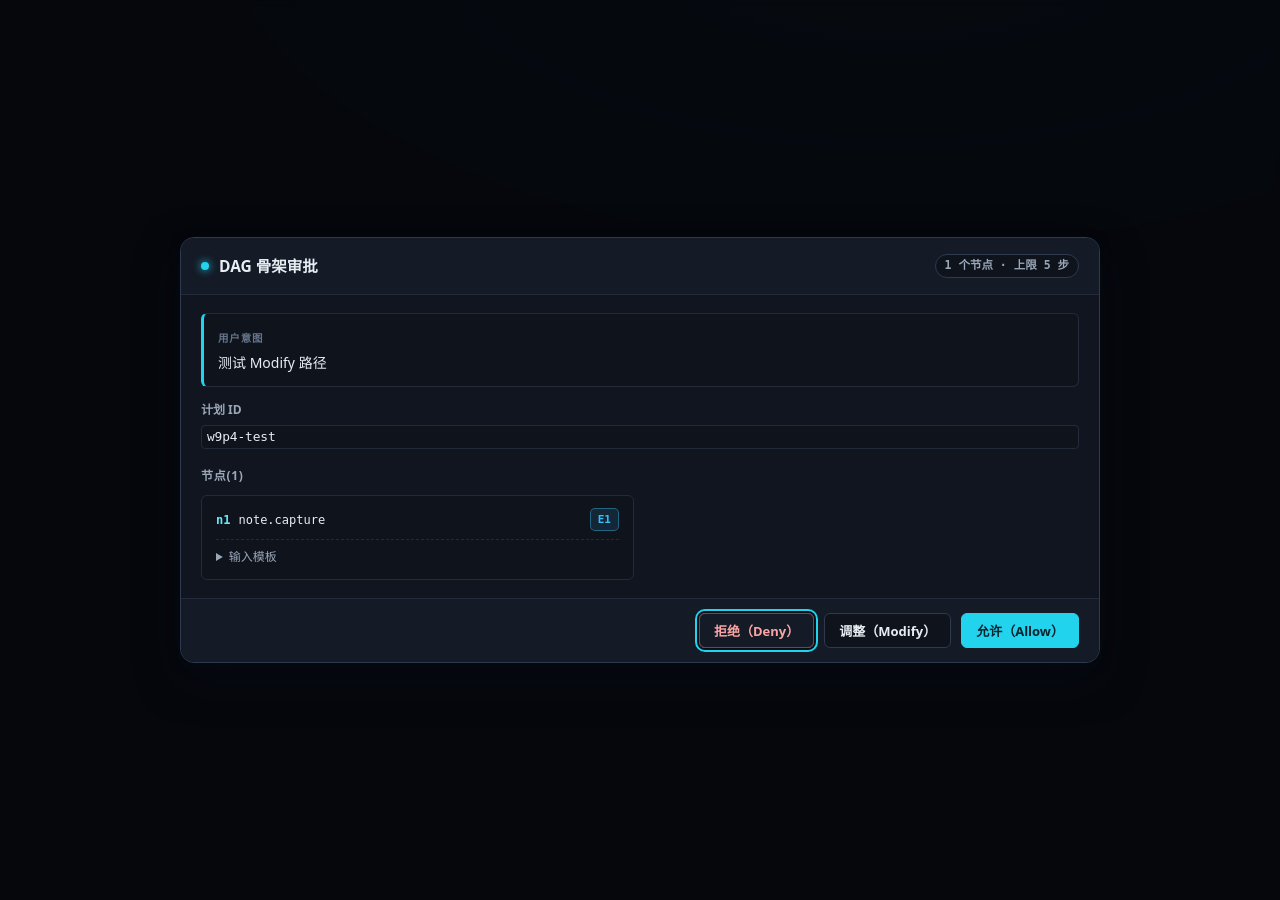
DagApprovalDialog Modify path › click_modify_enters_editing_mode
Click the button with aria-label "调整 DAG 节点". click: coordinates (888, 630)
box: [824,613,951,648]
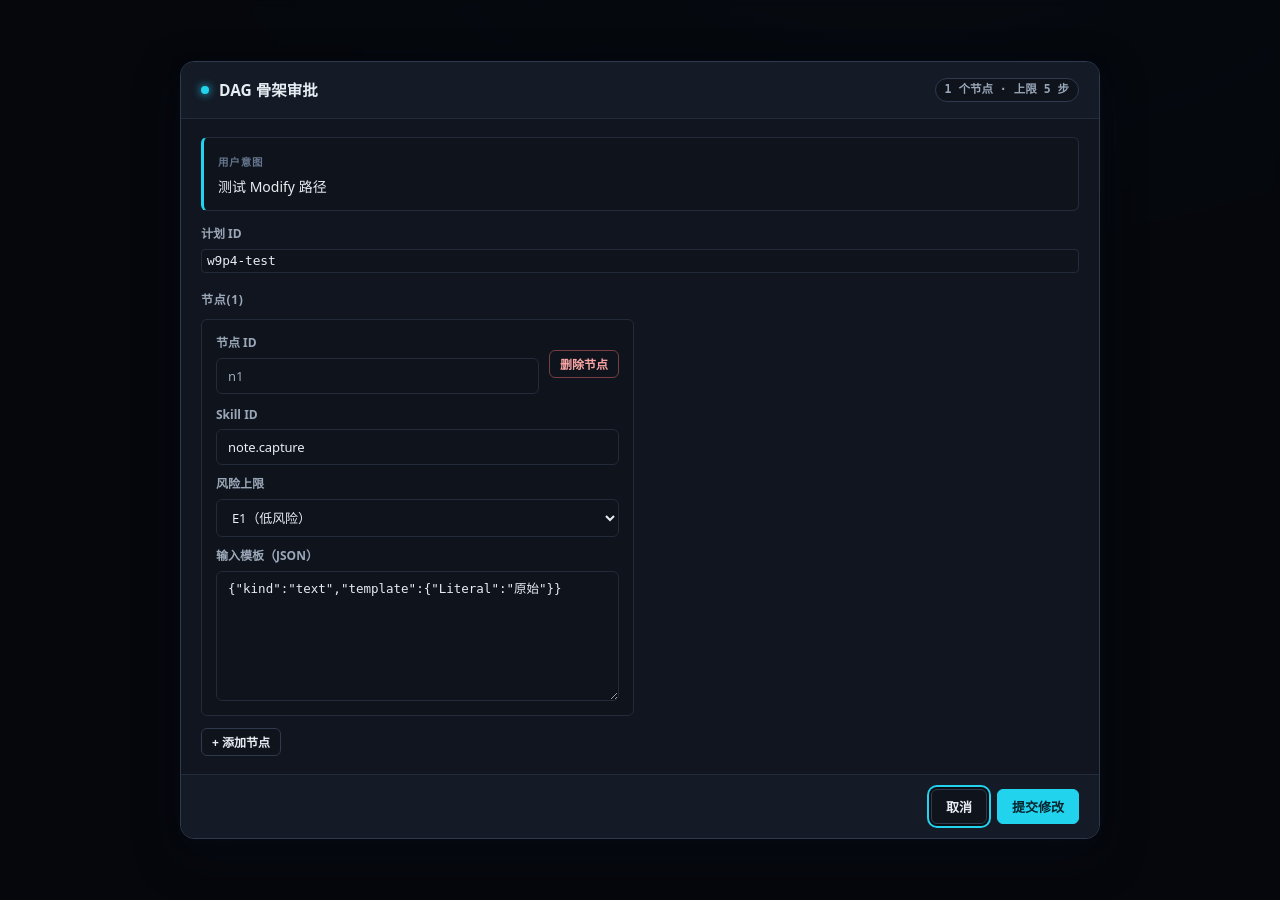
Now the button with aria-label "提交修改后的 DAG" is shown, box [997,789,1079,824]
Now the button with aria-label "取消编辑" is shown, box [931,789,987,824]
Now the button with aria-label "添加新节点" is shown, box [201,728,281,756]
